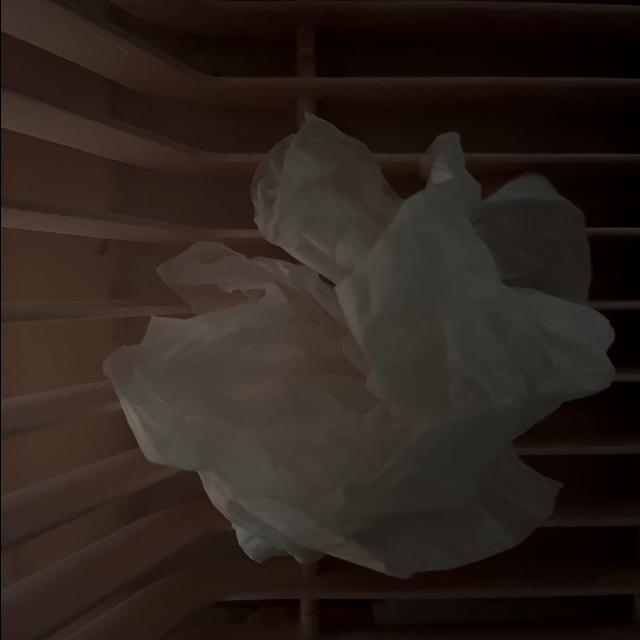Paper: (101, 134, 599, 579)
